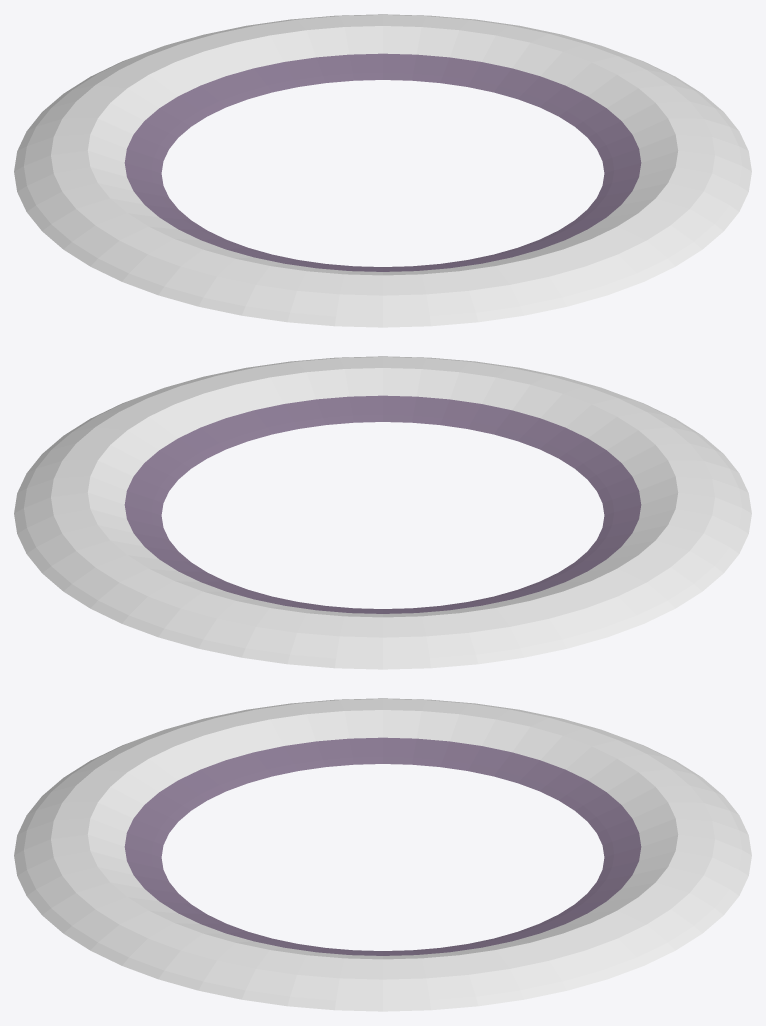
File: HoloChakram.fbx
3 renders of one model, top to bottom at view 1: azimuth 30°, elevation 25°; view 2: azimuth 150°, elevation 25°; view 3: azimuth 270°, elevation 25°, orthographic.
Visible parts, largest first — view 1: Torus; view 2: Torus; view 3: Torus.
Boxes of the visible parts, bbox=[...] form: Torus: bbox=[14, 14, 751, 327]; Torus: bbox=[14, 356, 751, 669]; Torus: bbox=[14, 698, 751, 1011].
Bounding box in the file's own units: 250 × 11.61 × 250.
